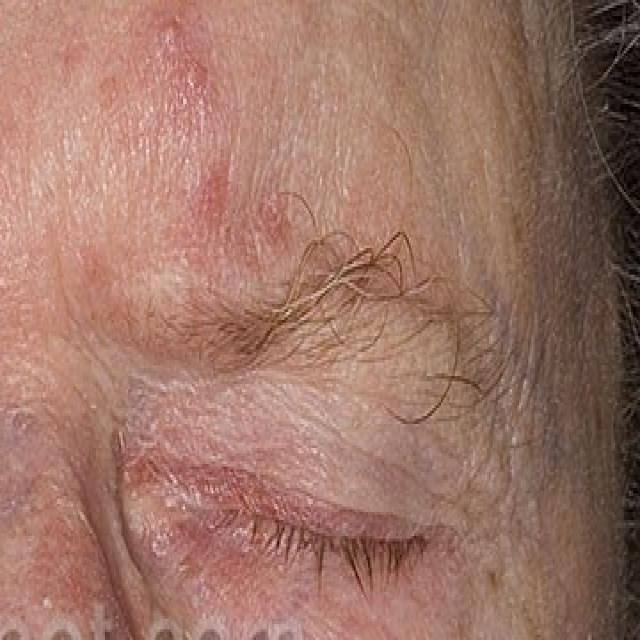Rosacea: (55, 9, 297, 298)
